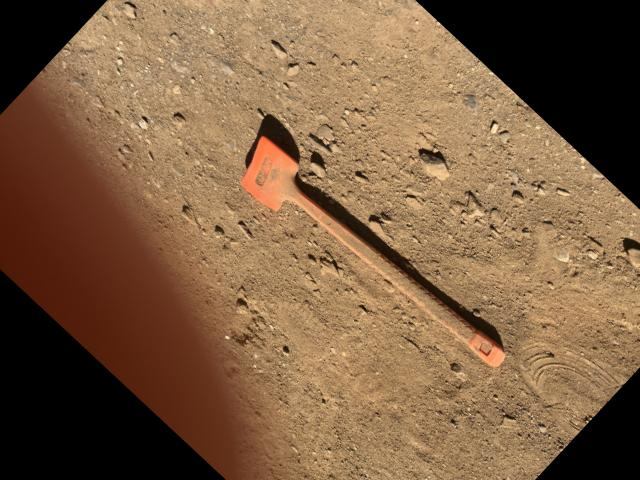hammer: (226, 125, 514, 400)
